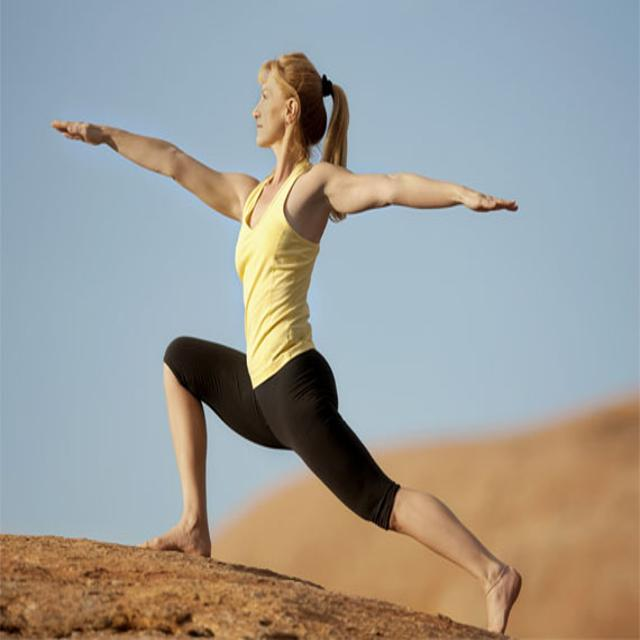Warrior_II: (56, 48, 535, 633)
